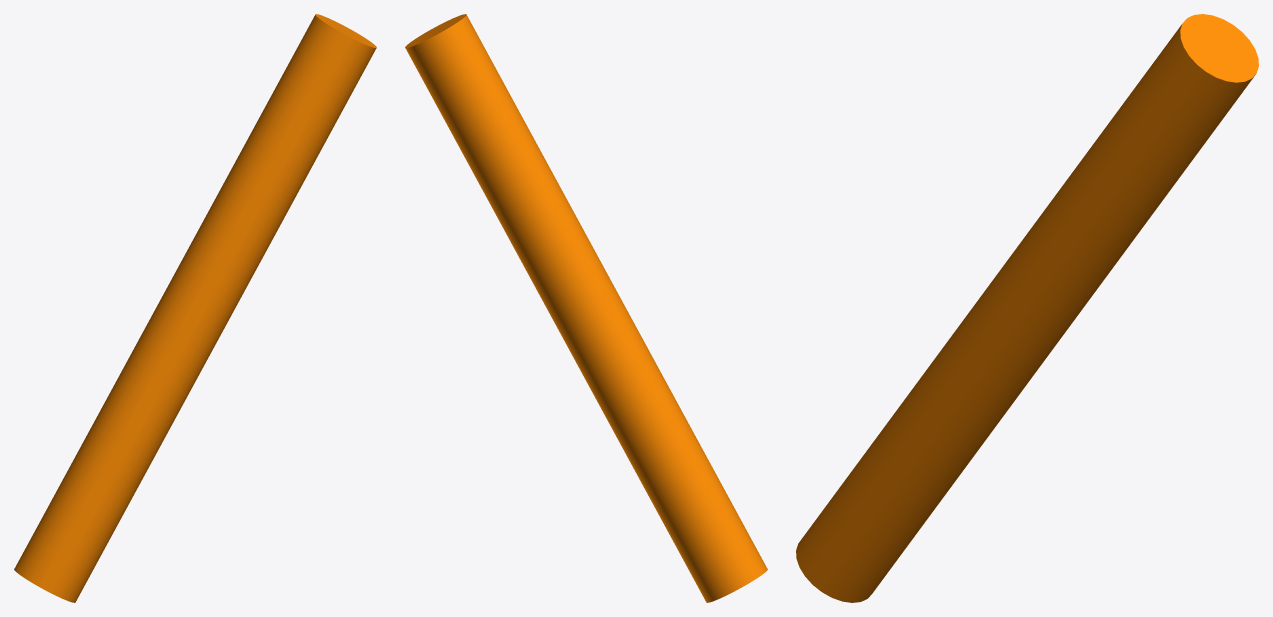
Rendered from original-24.obj.
3 views of the same model, side by side, from view 1: azimuth 30°, elevation 25°; view 2: azimuth 150°, elevation 25°; view 3: azimuth 330°, elevation 25° (orthographic). The views are drawn at different scales.
Visible parts, largest first — view 1: mesh36/mesh36-geometry#mesh36-geometry; view 2: mesh36/mesh36-geometry#mesh36-geometry; view 3: mesh36/mesh36-geometry#mesh36-geometry.
Boxes of the visible parts, x1,y1,x2,y2 form: mesh36/mesh36-geometry#mesh36-geometry: (14, 14, 376, 602); mesh36/mesh36-geometry#mesh36-geometry: (405, 14, 767, 602); mesh36/mesh36-geometry#mesh36-geometry: (796, 14, 1258, 602).
Bounding box in the file's own units: 0.1879 × 0.2632 × 0.0326.
